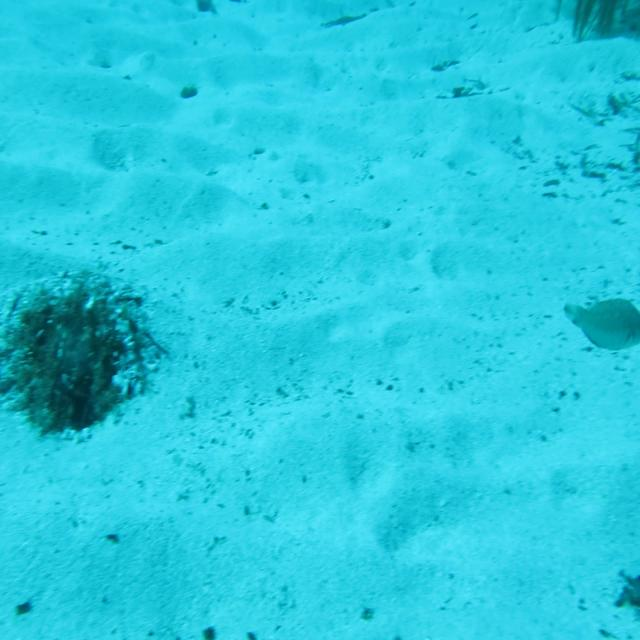SA: (560, 287, 640, 360)
core_nest: (52, 316, 96, 346)
nest: (4, 282, 150, 438)
